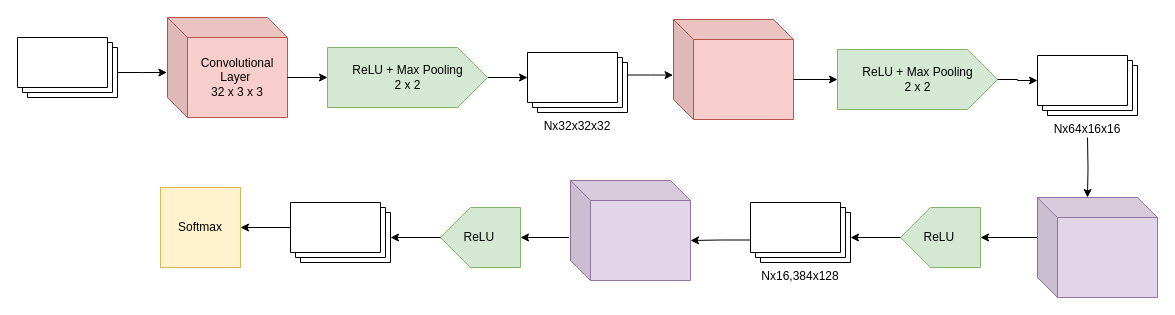
Some shapes in this 1175 by 315 pixel diagram are drawn without their labels. The centre of each missing label's shape, as x and y in pixels:
Convolutional Layer 64 x 3 x 3: the point at 733,69
FNN 128 x 4: the point at 630,230
FNN 16,384x128: the point at 1097,247
Nx128x4: the point at 340,232
Nx64x64: the point at 67,67
